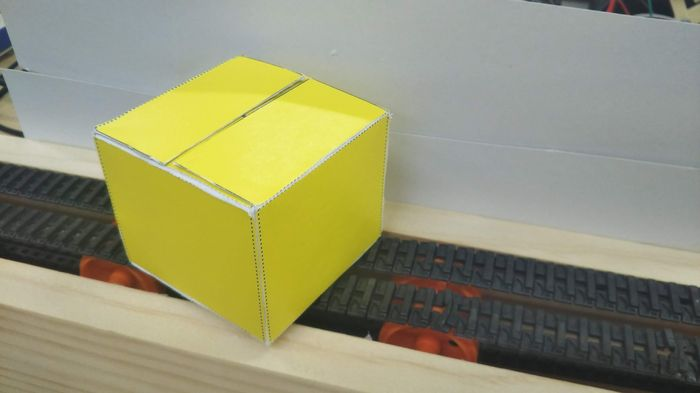box4: (92, 53, 393, 346)
